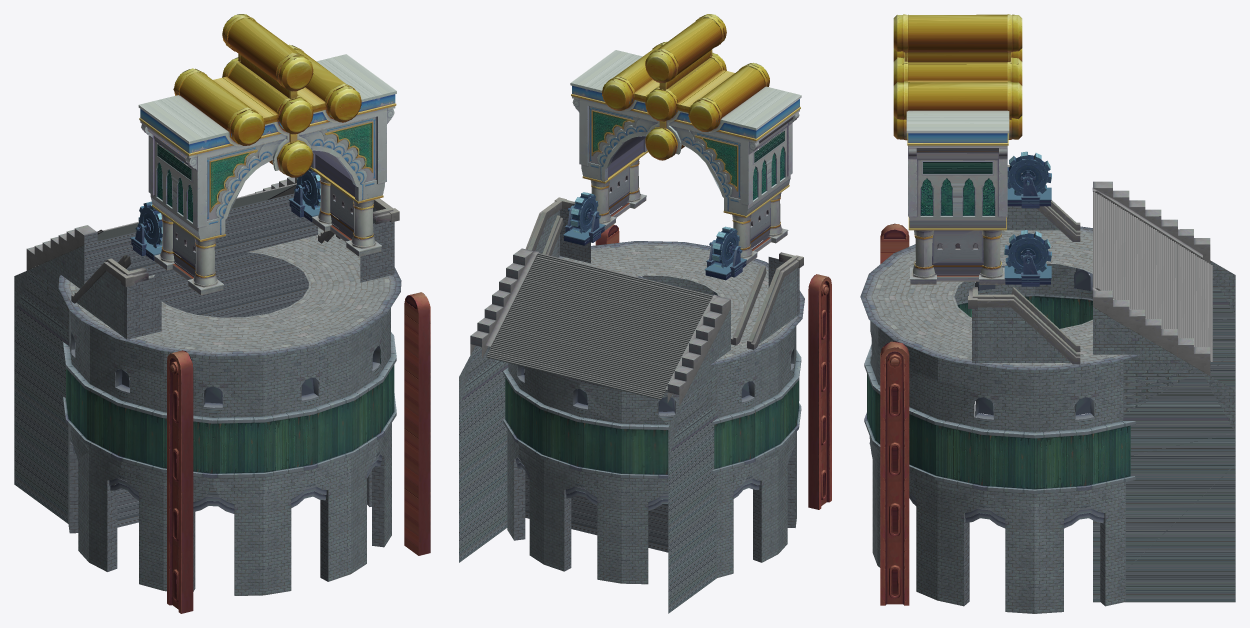
The model's file is Story03_한양영어유치원.fbx.
3 views of the same model, side by side, from view 1: azimuth 30°, elevation 25°; view 2: azimuth 150°, elevation 25°; view 3: azimuth 270°, elevation 25° (orthographic). The views are drawn at different scales.
Visible parts, largest first — view 1: Story03_한양영어유치원; view 2: Story03_한양영어유치원; view 3: Story03_한양영어유치원.
Part boxes in pixels (x1,y1,x2,y2): Story03_한양영어유치원: (14, 14, 430, 613); Story03_한양영어유치원: (459, 14, 831, 613); Story03_한양영어유치원: (860, 14, 1235, 613).
Bounding box in the file's own units: 4088 × 6843 × 4400.
2 materials, 2 textured.
